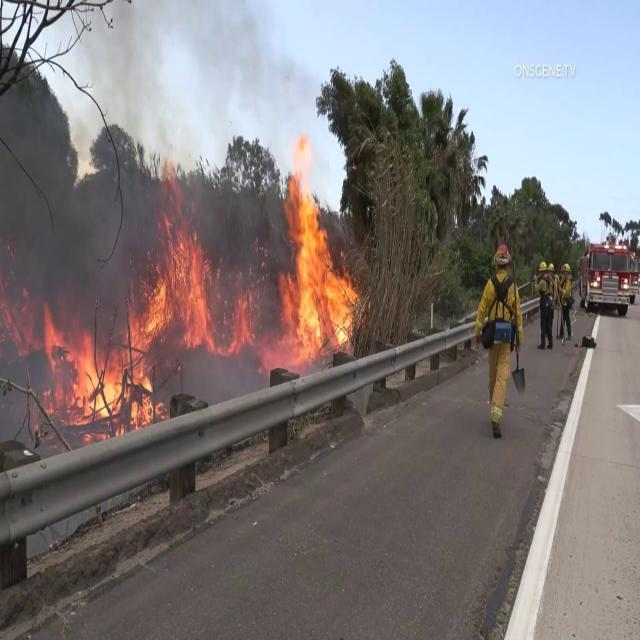Fire: (274, 138, 362, 360), (40, 292, 160, 432), (130, 214, 220, 360)
